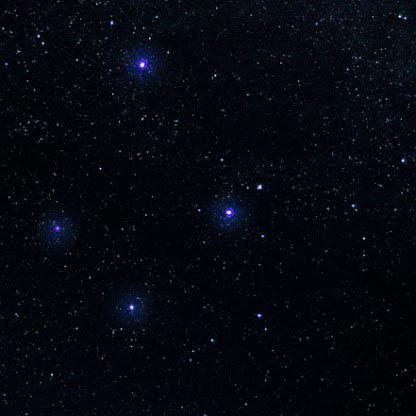Southern Cross: (113, 286, 149, 322), (127, 46, 161, 84), (42, 211, 74, 246), (210, 197, 244, 228)
